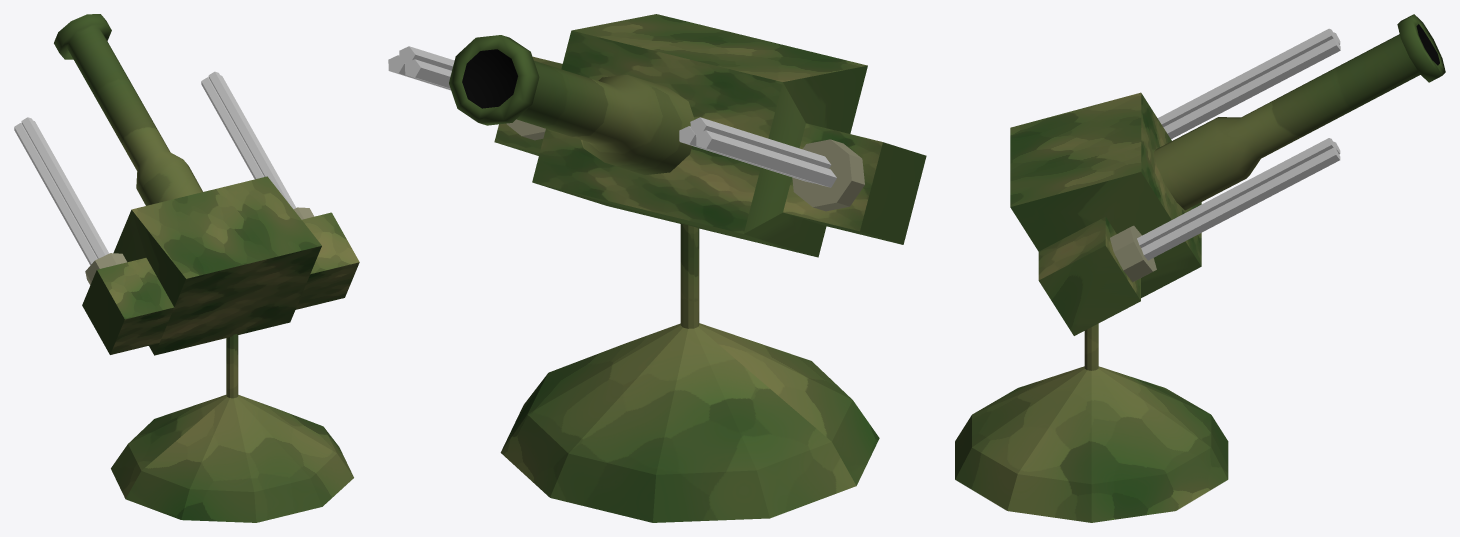
Rendered from Turret.fbx.
3 views of the same model, side by side, from view 1: azimuth 30°, elevation 25°; view 2: azimuth 150°, elevation 25°; view 3: azimuth 270°, elevation 25° (orthographic). The views are drawn at different scales.
Visible parts, largest first — view 1: pCube1, pCylinder1, Canon:pCylinder1, pCylinder8, pCylinder6, pCylinder4, pCylinder2, pCylinder9; view 2: pCylinder1, pCube1, Canon:pCylinder1, pCylinder9, pCylinder6, pCylinder8, pCylinder2, pCylinder4; view 3: pCylinder1, pCube1, Canon:pCylinder1, pCylinder3, pCylinder7, pCylinder4, pCylinder8, pCylinder5.
Part boxes in pixels (x1=…): pCube1: x1=82, y1=176, x2=359, y2=355; pCylinder1: x1=111, y1=334, x2=353, y2=522; Canon:pCylinder1: x1=54, y1=14, x2=202, y2=205; pCylinder8: x1=21, y1=117, x2=107, y2=258; pCylinder6: x1=14, y1=123, x2=97, y2=264; pCylinder4: x1=208, y1=71, x2=294, y2=209; pCylinder2: x1=201, y1=77, x2=264, y2=179; pCylinder9: x1=85, y1=253, x2=126, y2=284; pCylinder1: x1=500, y1=223, x2=879, y2=522; pCube1: x1=494, y1=14, x2=926, y2=257; Canon:pCylinder1: x1=449, y1=35, x2=694, y2=175; pCylinder9: x1=792, y1=139, x2=864, y2=211; pCylinder6: x1=696, y1=130, x2=836, y2=187; pCylinder8: x1=690, y1=117, x2=831, y2=168; pCylinder2: x1=405, y1=59, x2=451, y2=88; pCylinder4: x1=399, y1=46, x2=454, y2=70; pCylinder1: x1=955, y1=323, x2=1228, y2=522; pCube1: x1=1010, y1=92, x2=1201, y2=335; Canon:pCylinder1: x1=1153, y1=14, x2=1445, y2=210; pCylinder3: x1=1141, y1=147, x2=1340, y2=260; pCylinder7: x1=1163, y1=38, x2=1340, y2=139; pCylinder4: x1=1137, y1=138, x2=1335, y2=247; pCylinder8: x1=1157, y1=28, x2=1335, y2=126; pCylinder5: x1=1110, y1=225, x2=1156, y2=281.
Size of the model in its own units: 10.32 by 15.17 by 15.47.
